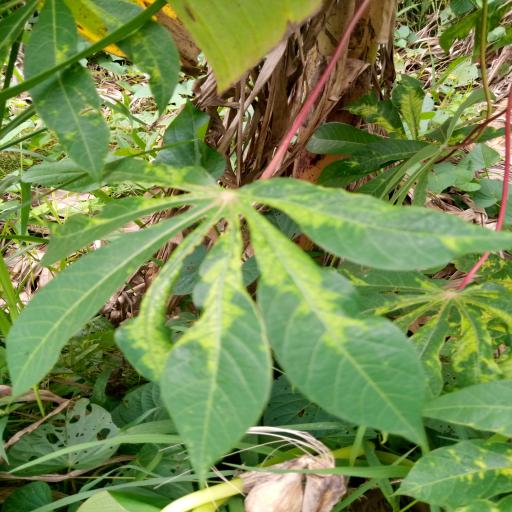Cassava_Mosaic: (5, 152, 512, 480)
